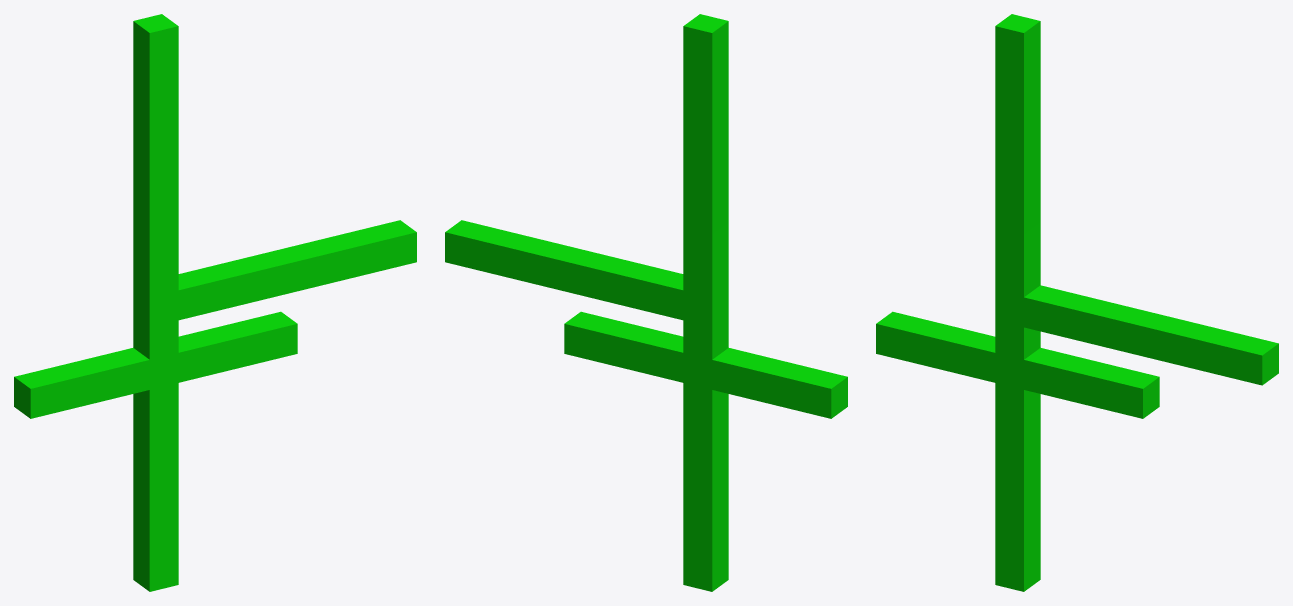
File: Zona04_ConectoresCircuito.fbx
The picture shows the model from 3 angles, left to right: view 1: azimuth 30°, elevation 25°; view 2: azimuth 150°, elevation 25°; view 3: azimuth 330°, elevation 25°; orthographic projection.
Visible parts, largest first — view 1: PiezaCircuito05, PiezaCircuito03, PiezaCircuito04, PiezaCircuito02; view 2: PiezaCircuito04, PiezaCircuito05, PiezaCircuito03, PiezaCircuito02; view 3: PiezaCircuito04, PiezaCircuito05, PiezaCircuito03, PiezaCircuito02.
Part boxes in pixels (<box>): PiezaCircuito05: <box>14,223,297,513</box>; PiezaCircuito03: <box>133,14,178,591</box>; PiezaCircuito04: <box>150,220,416,576</box>; PiezaCircuito02: <box>133,305,178,591</box>; PiezaCircuito04: <box>445,220,711,576</box>; PiezaCircuito05: <box>564,223,847,513</box>; PiezaCircuito03: <box>683,14,728,591</box>; PiezaCircuito02: <box>683,305,728,590</box>; PiezaCircuito04: <box>995,285,1278,576</box>; PiezaCircuito05: <box>876,223,1159,510</box>; PiezaCircuito03: <box>995,14,1040,591</box>; PiezaCircuito02: <box>995,305,1040,590</box>.
Size of the model in its own units: 60.54 by 83.71 by 4.5.
